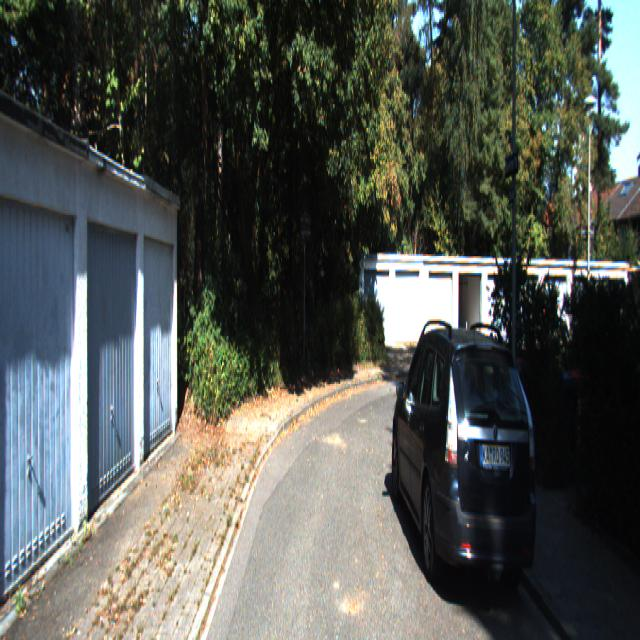Car: (388, 321, 544, 614)
